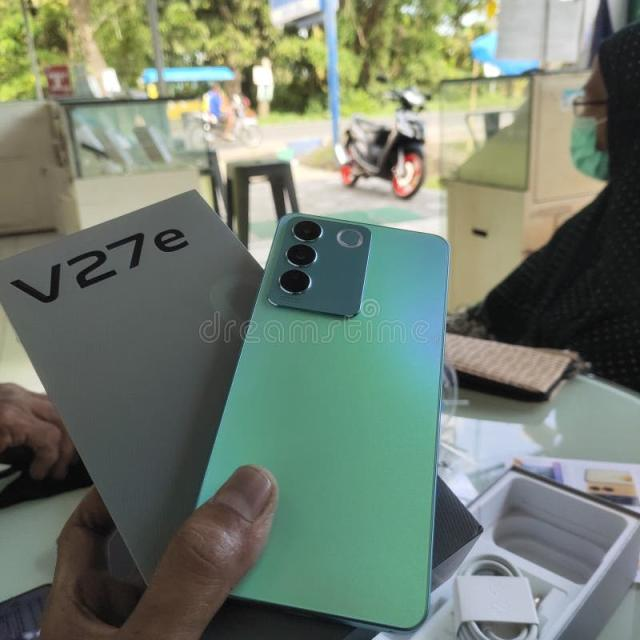mobile_phone: (242, 169, 450, 637)
